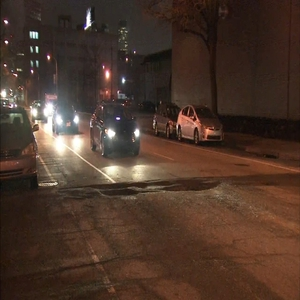pothole: (58, 174, 229, 199)
